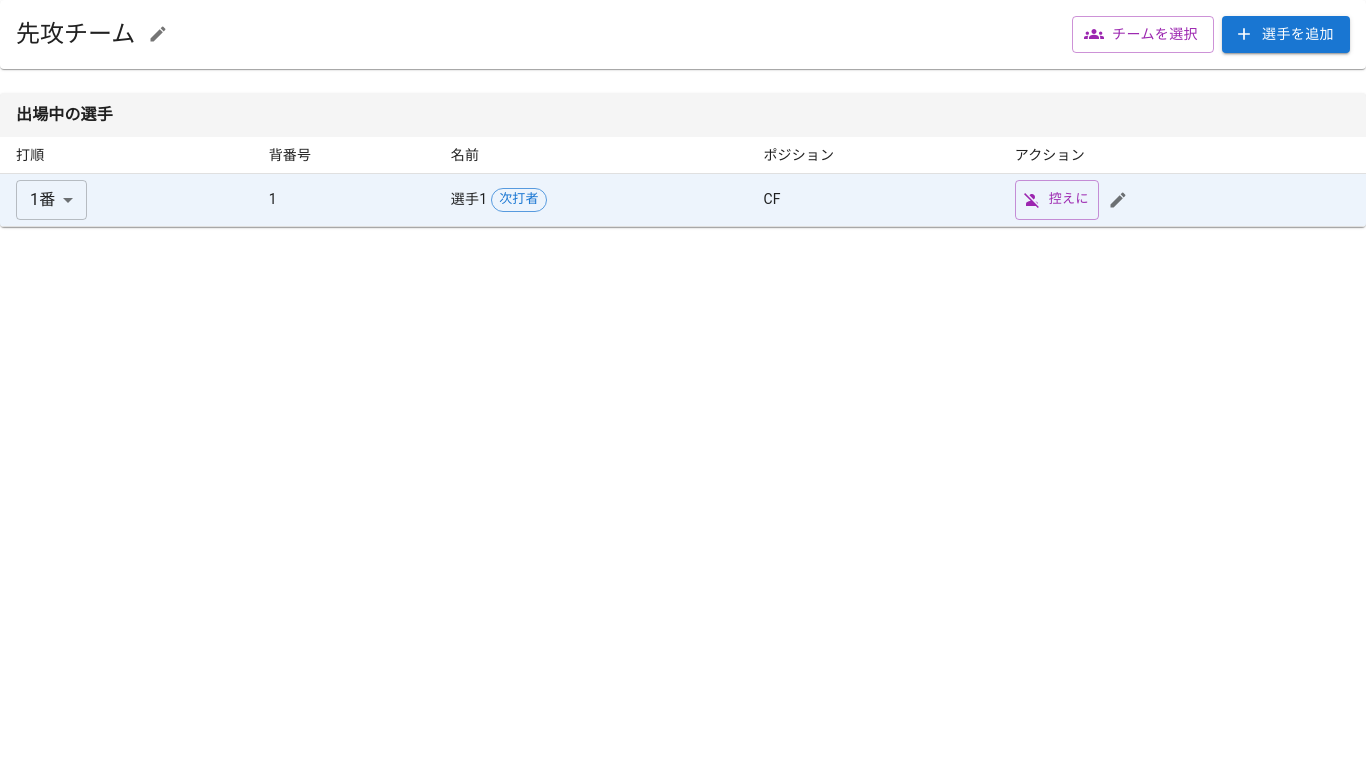
Test case: TeamManager - 試合名簿からの選手削除 › 削除のキャンセルでは名簿も打席も変更しない
Step 1. Click the button named "選手情報を編集" → (1118, 200), box [1103,184,1133,214]
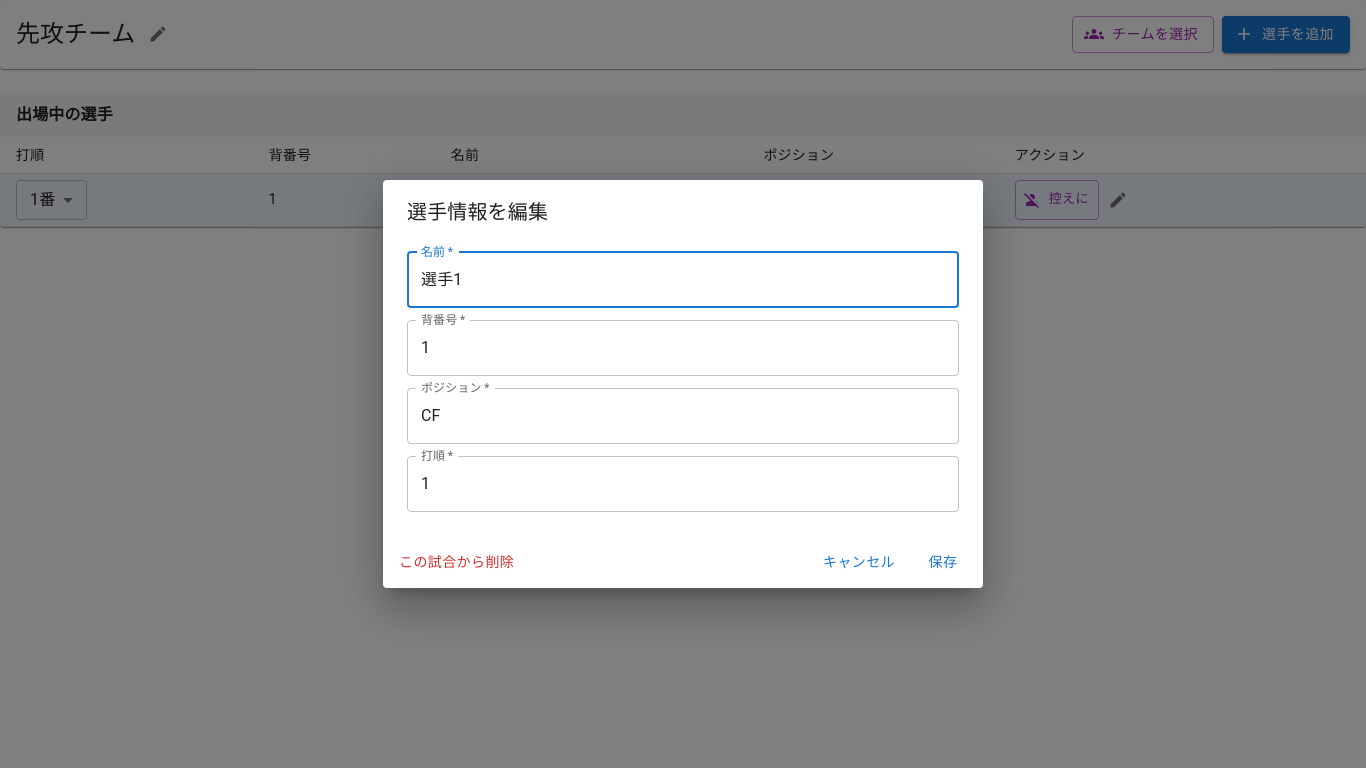
Step 2. Click the button "この試合から削除" → (457, 562), box [391,544,522,580]
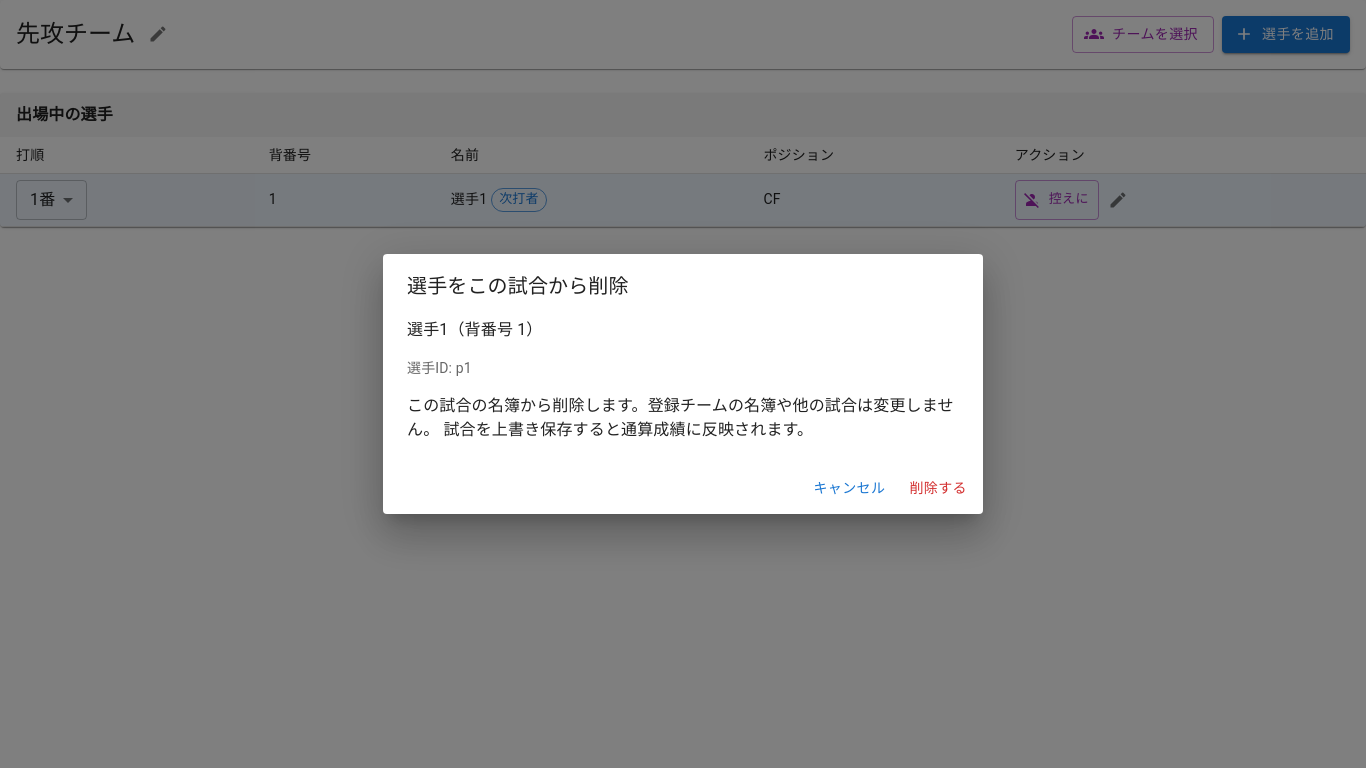
Step 3. Click the button "キャンセル" → (849, 488), box [805,470,893,506]
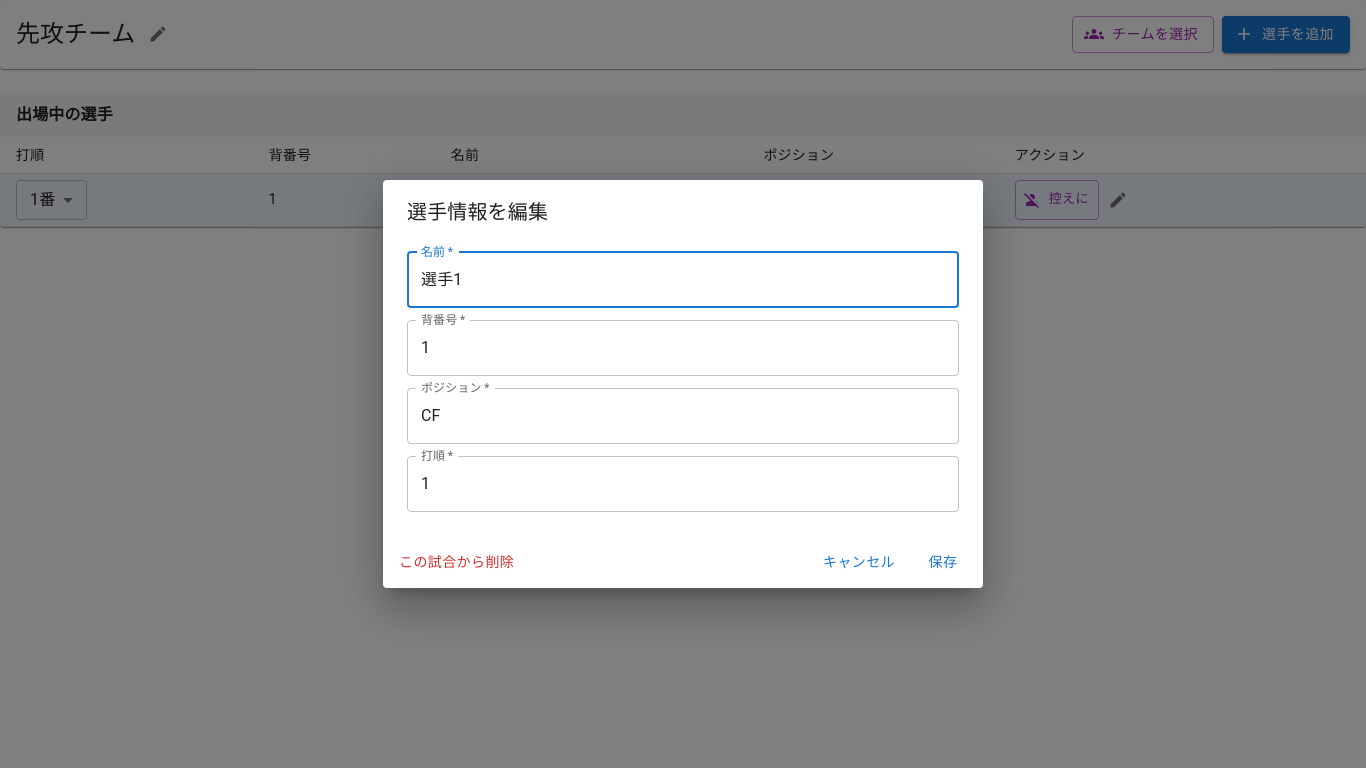
Result: the dialog "選手情報を編集" is shown at [383,180,983,588]
